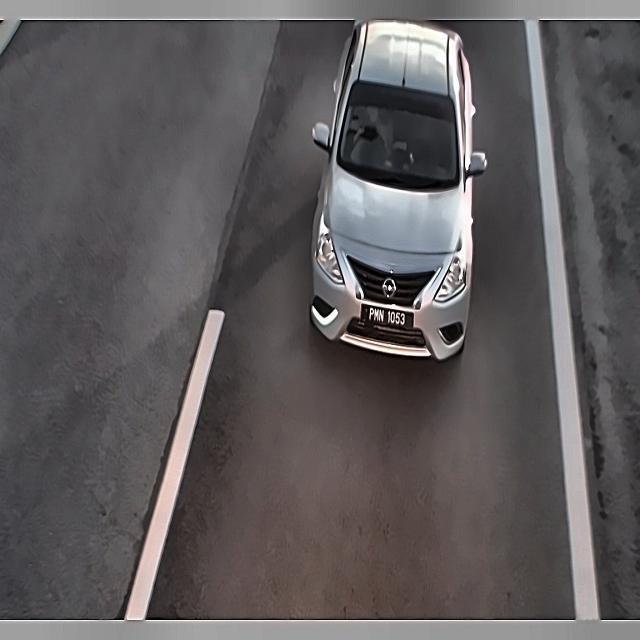car: (356, 296, 422, 338)
